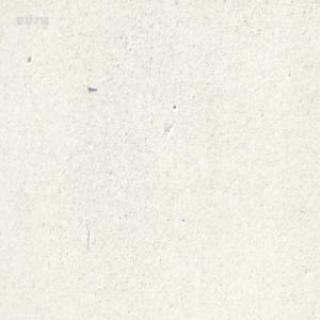Nailtrack_idkeyframe: (86, 83, 96, 89)
